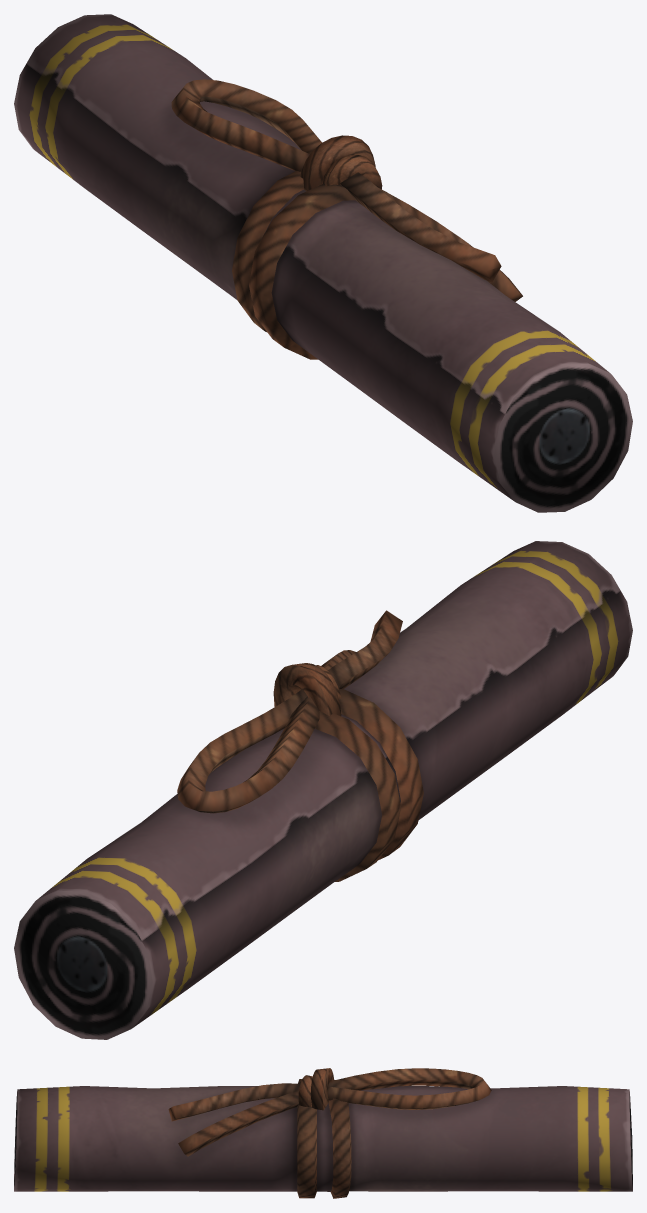
File: sb_obj_indoor008_Paperwork03.fbx
3 views of the same model, one above another, from view 1: azimuth 30°, elevation 25°; view 2: azimuth 150°, elevation 25°; view 3: azimuth 270°, elevation 25° (orthographic). The views are drawn at different scales.
Parts seen in each view (by area): view 1: scroll; view 2: scroll; view 3: scroll.
Part boxes in pixels (x1=…): scroll: x1=14, y1=14, x2=632, y2=512; scroll: x1=14, y1=541, x2=632, y2=1039; scroll: x1=14, y1=1068, x2=632, y2=1198.
Bounding box in the file's own units: 0.0564 × 0.063 × 0.2732.
